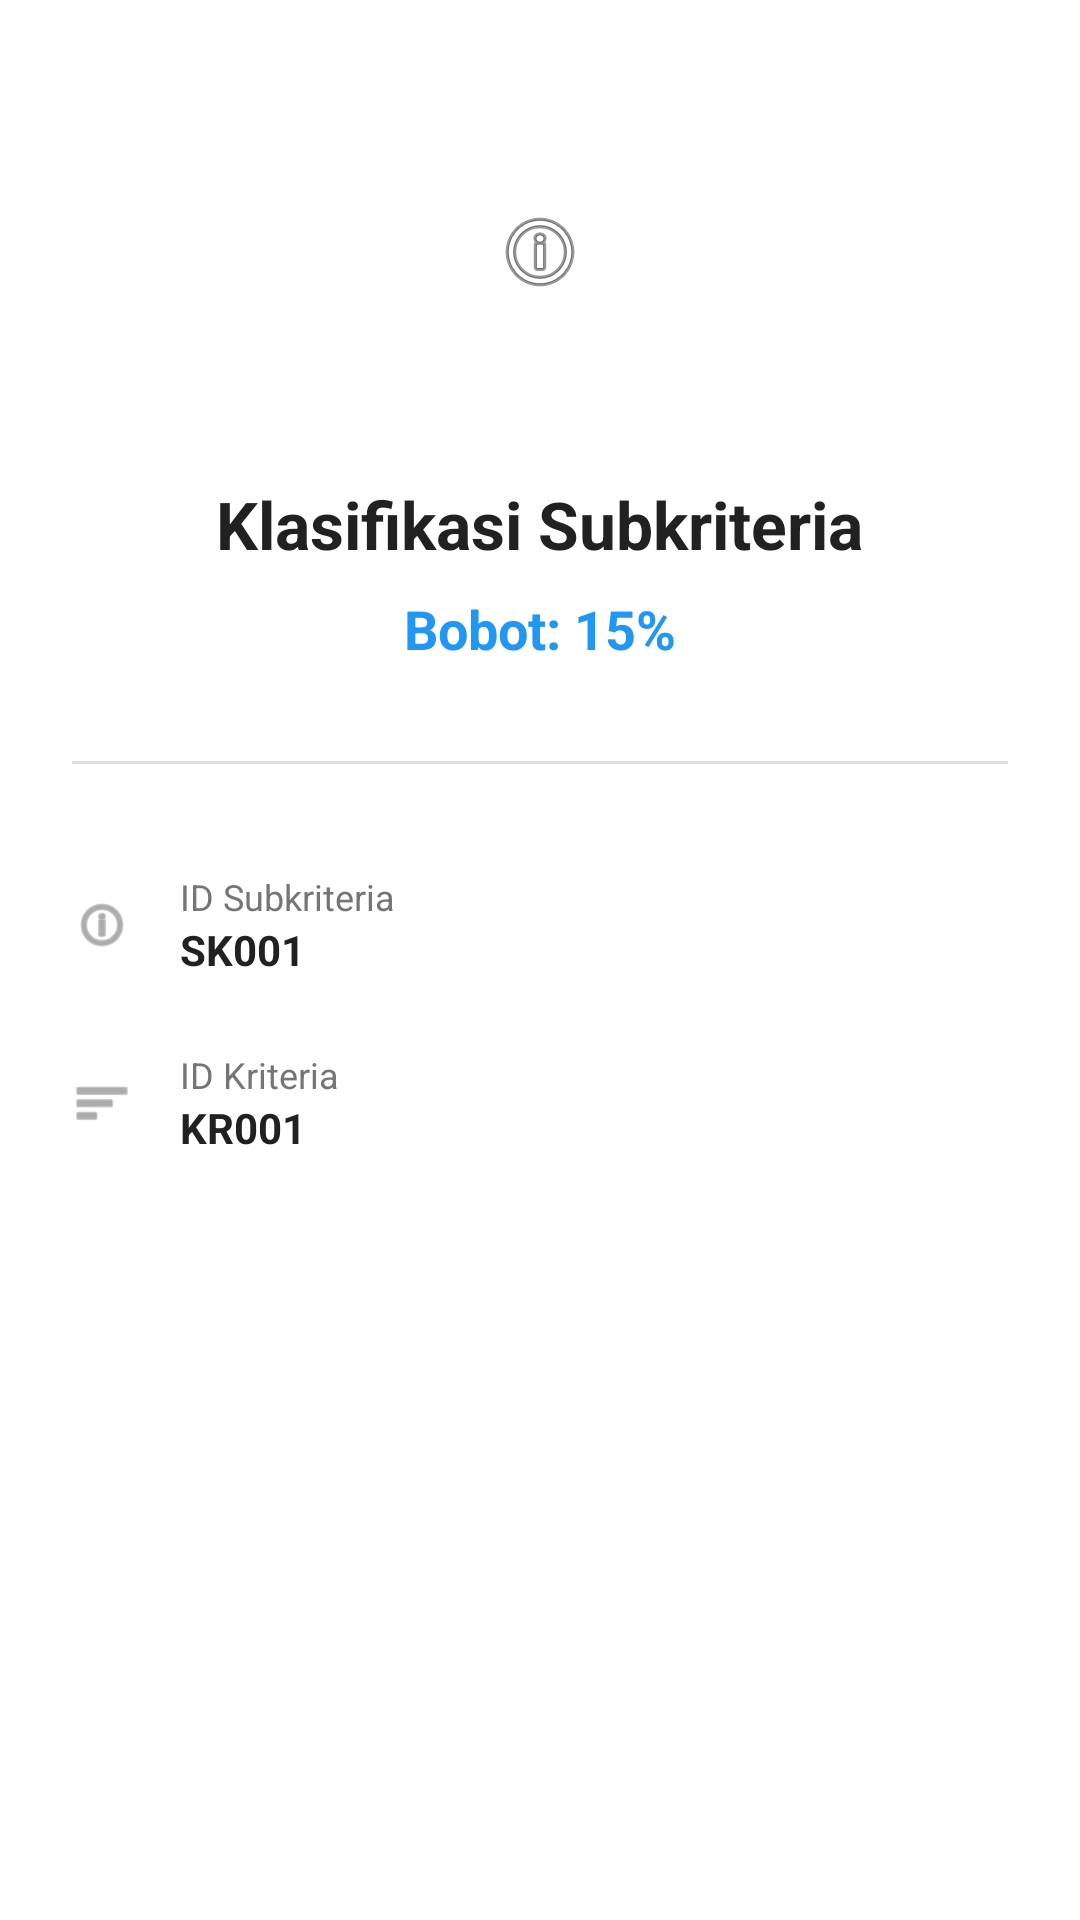

Screen size 1080 x 1920. Icon name, then its box in pixels as (x1, y1, x2, y2):
info details: (505, 217, 575, 287), (81, 904, 123, 946)
sort by size: (76, 1087, 128, 1120)
